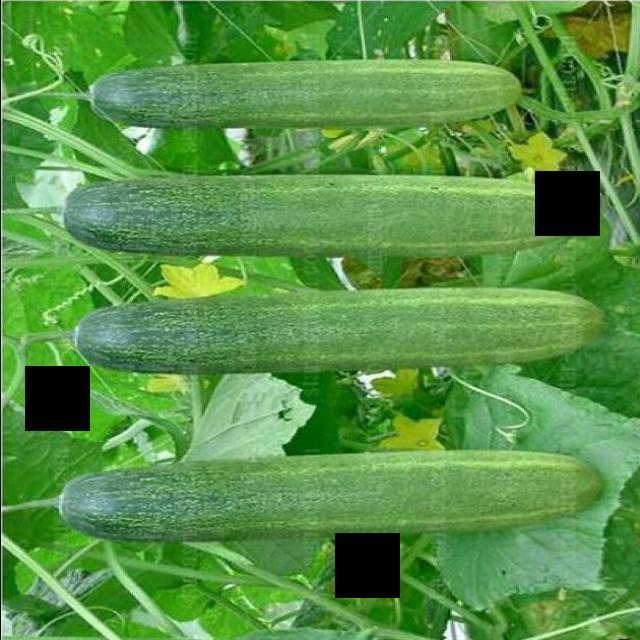cucumber: (54, 446, 606, 544), (70, 284, 610, 378), (56, 169, 590, 263), (80, 56, 524, 131)
